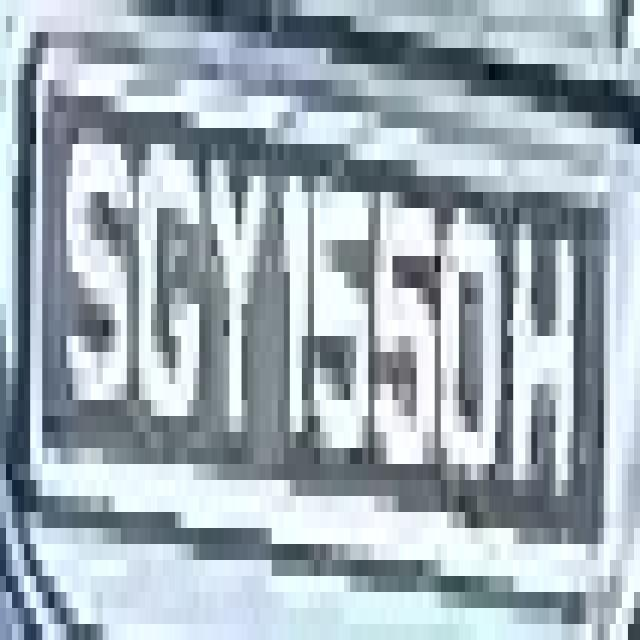0: (441, 128, 501, 496)
1: (272, 96, 302, 496)
5: (362, 112, 441, 480), (308, 112, 374, 448)
G: (133, 64, 205, 448)
H: (495, 144, 580, 576)
S: (60, 48, 127, 464)
Y: (193, 96, 278, 480)
